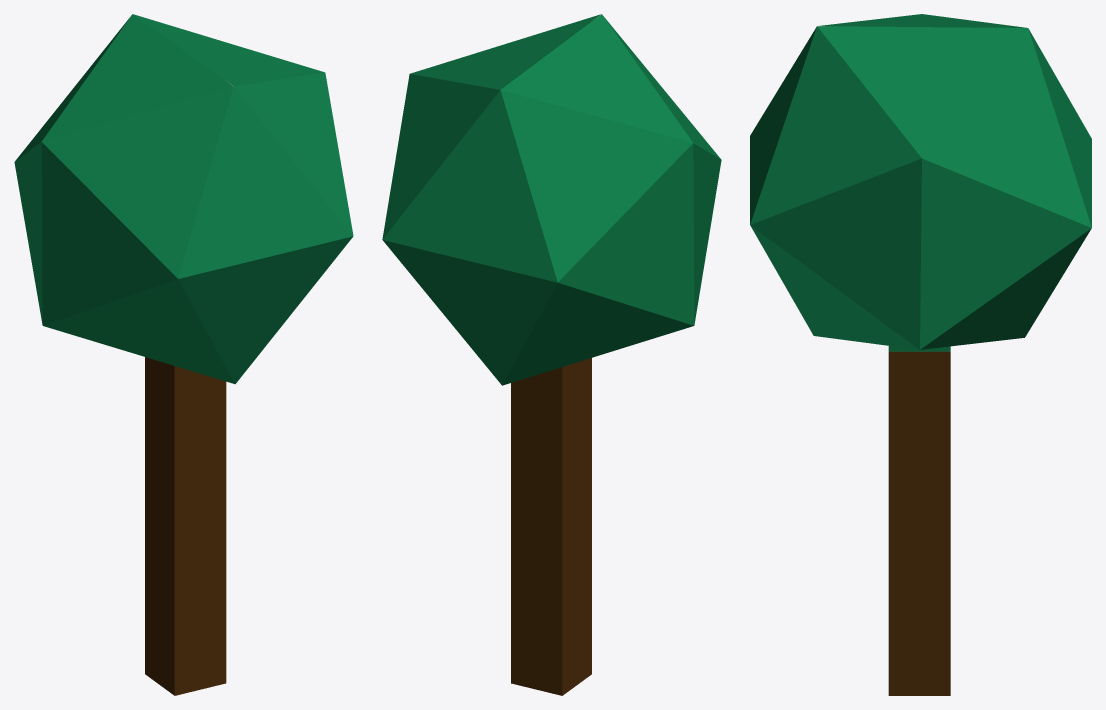
Rendered from Plant_tree.fbx.
3 renders of one model, left to right at view 1: azimuth 30°, elevation 25°; view 2: azimuth 150°, elevation 25°; view 3: azimuth 270°, elevation 25°, orthographic. The views are drawn at different scales.
Visible parts, largest first — view 1: Tree; view 2: Tree; view 3: Tree.
Boxes of the visible parts, x1=… form: Tree: x1=14, y1=14, x2=353, y2=695; Tree: x1=382, y1=14, x2=721, y2=695; Tree: x1=750, y1=14, x2=1091, y2=695.
Size of the model in its own units: 170 by 360 by 170.
